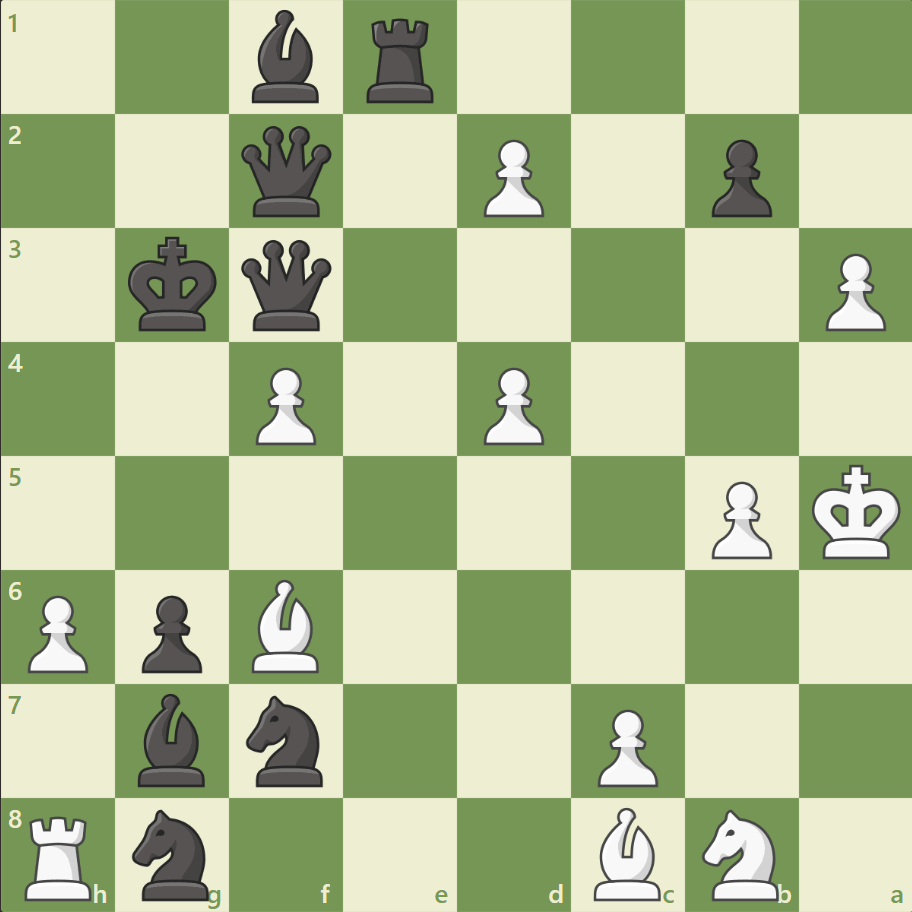B: (585, 801, 669, 904), (244, 574, 328, 676)
K: (806, 458, 906, 566)
N: (692, 802, 789, 904)
P: (20, 586, 95, 677), (701, 473, 776, 564), (474, 359, 549, 450), (247, 359, 322, 450), (474, 132, 549, 223), (588, 700, 662, 791), (815, 246, 889, 337)
R: (19, 806, 102, 904)
b: (131, 687, 215, 790), (244, 6, 328, 109)
k: (124, 231, 224, 339)
n: (124, 802, 222, 904), (238, 688, 335, 791)
p: (133, 586, 208, 677), (701, 132, 776, 223)
q: (237, 122, 336, 222), (237, 236, 336, 335)
r: (360, 12, 442, 109)
